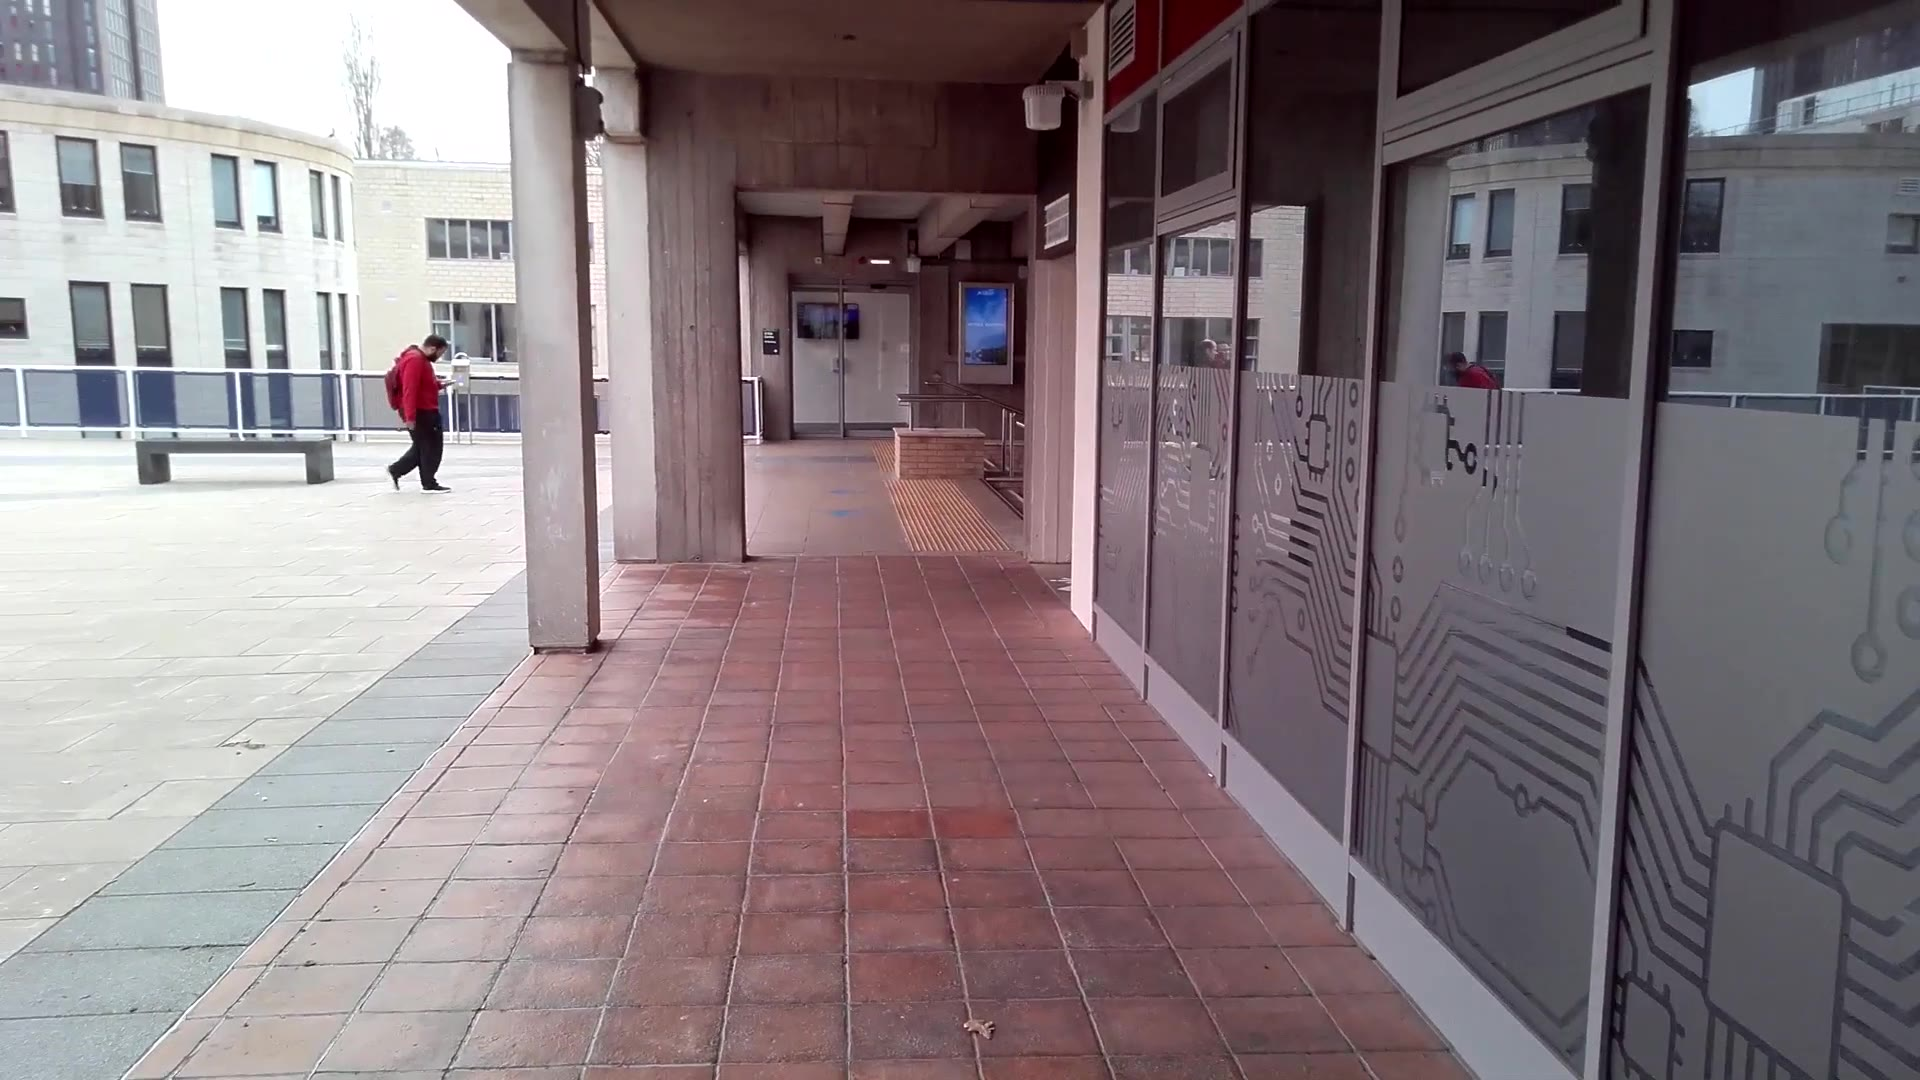Backpack: (381, 358, 414, 419)
Bench: (130, 427, 342, 491)
Person: (405, 333, 452, 491)
